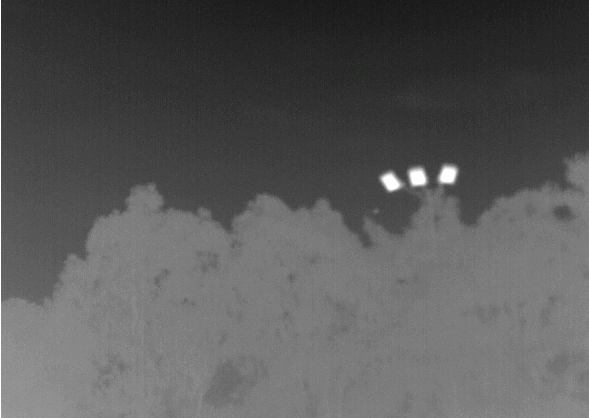dim target: (371, 207, 381, 215)
